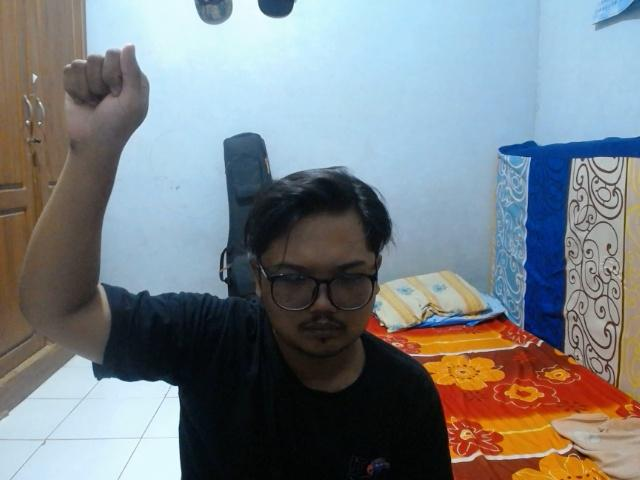Grab: (59, 38, 154, 160)
